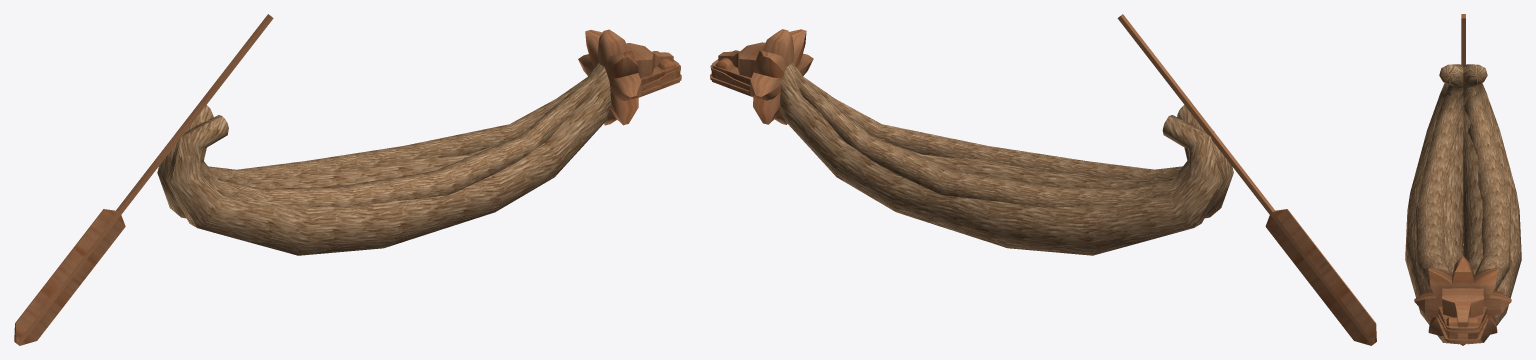
The model's file is boat.glb.
The picture shows the model from 3 angles, left to right: view 1: azimuth 30°, elevation 25°; view 2: azimuth 150°, elevation 25°; view 3: azimuth 270°, elevation 25°; orthographic projection. The views are drawn at different scales.
Visible parts, largest first — view 1: stk_generic_thatch_a.png__, stk_generic_rockStrata_a.png__; view 2: stk_generic_thatch_a.png__, stk_generic_rockStrata_a.png__; view 3: stk_generic_thatch_a.png__, stk_generic_rockStrata_a.png__.
Part boxes in pixels (x1,y1,x2,y2): stk_generic_thatch_a.png__: [157, 63, 611, 255]; stk_generic_rockStrata_a.png__: [14, 14, 681, 345]; stk_generic_thatch_a.png__: [780, 63, 1233, 255]; stk_generic_rockStrata_a.png__: [710, 14, 1376, 345]; stk_generic_thatch_a.png__: [1405, 64, 1521, 344]; stk_generic_rockStrata_a.png__: [1414, 14, 1511, 345].
Size of the model in its own units: 11.37 by 4.43 by 1.88.
2 materials, 2 textured.
